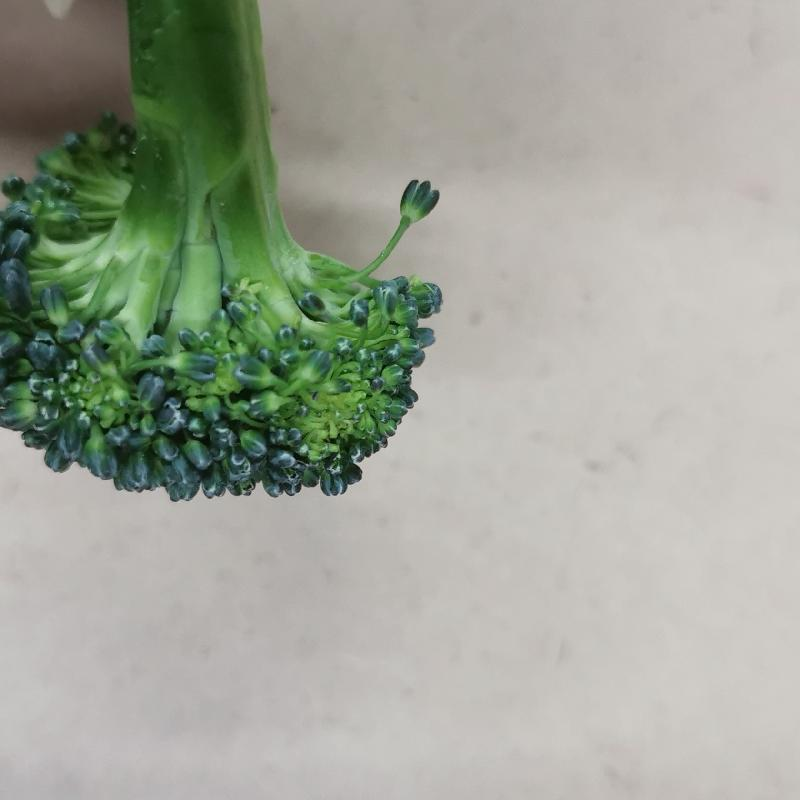broccoli: (2, 1, 445, 505)
